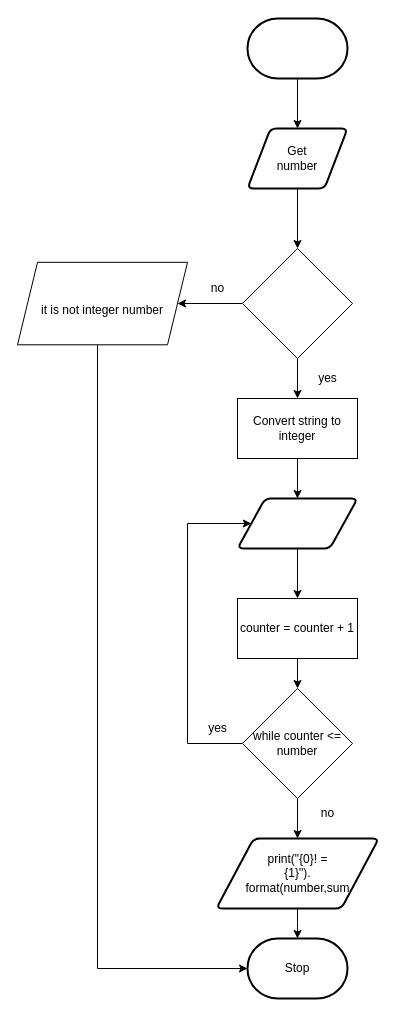
This 397x1016 diagram has some shape labels left out. The centre of each missing label's shape, as x and y in pixels:
Start: point 297,48
sum = sum*counter: point 297,523
try: point 297,303
